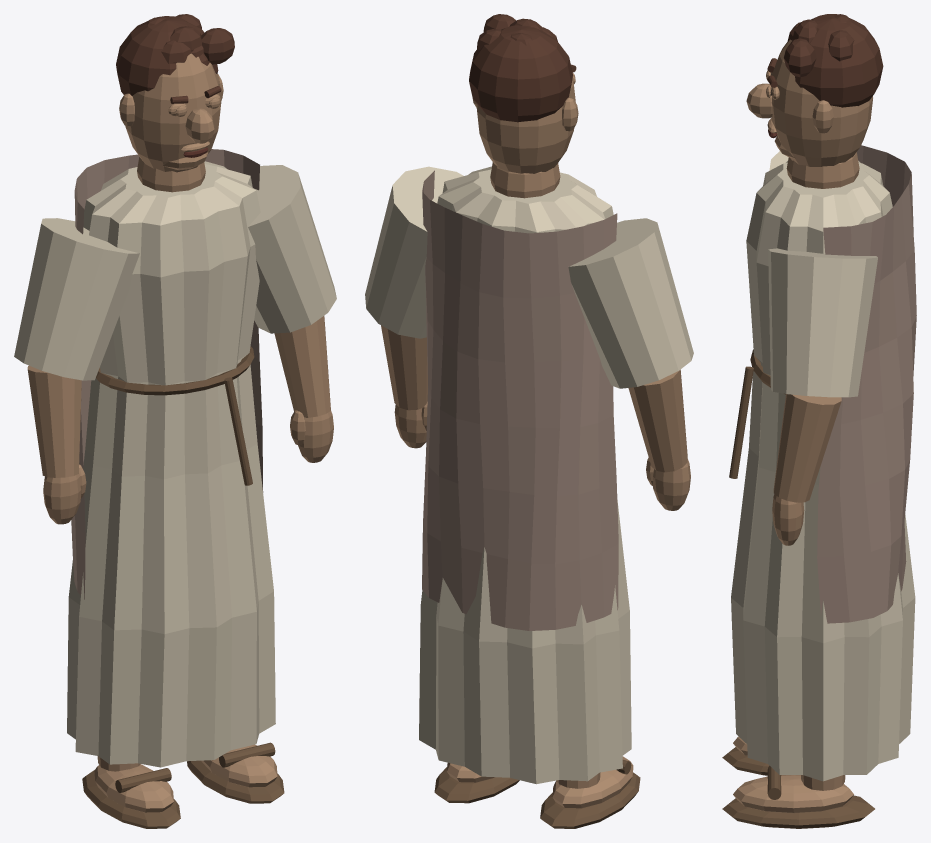
File: listener-linen.glb
The picture shows the model from 3 angles, left to right: view 1: azimuth 30°, elevation 25°; view 2: azimuth 150°, elevation 25°; view 3: azimuth 270°, elevation 25°; orthographic projection.
Visible parts, largest first — view 1: listener-linen_torso_mesh, listener-linen_arm_left_mesh, listener-linen_head_mesh, listener-linen_arm_right_mesh, listener-linen_forearm_left_mesh, listener-linen_forearm_right_mesh, listener-linen_foot_left_mesh, listener-linen_foot_right_mesh; view 2: listener-linen_torso_mesh, listener-linen_arm_left_mesh, listener-linen_head_mesh, listener-linen_arm_right_mesh, listener-linen_forearm_left_mesh, listener-linen_forearm_right_mesh, listener-linen_foot_left_mesh, listener-linen_foot_right_mesh; view 3: listener-linen_torso_mesh, listener-linen_head_mesh, listener-linen_arm_right_mesh, listener-linen_forearm_right_mesh, listener-linen_foot_right_mesh, listener-linen_foot_left_mesh, listener-linen_leg_right_mesh.
Boxes of the visible parts, x1,y1,x2,y2 form: listener-linen_torso_mesh: (67, 149, 275, 767); listener-linen_arm_left_mesh: (14, 218, 139, 380); listener-linen_head_mesh: (116, 14, 234, 172); listener-linen_arm_right_mesh: (248, 165, 336, 333); listener-linen_forearm_left_mesh: (27, 365, 86, 524); listener-linen_forearm_right_mesh: (274, 316, 333, 462); listener-linen_foot_left_mesh: (82, 764, 180, 828); listener-linen_foot_right_mesh: (187, 742, 284, 803); listener-linen_torso_mesh: (419, 162, 631, 784); listener-linen_arm_left_mesh: (568, 218, 693, 388); listener-linen_head_mesh: (469, 14, 578, 173); listener-linen_arm_right_mesh: (365, 166, 463, 338); listener-linen_forearm_left_mesh: (628, 369, 690, 510); listener-linen_forearm_right_mesh: (381, 325, 427, 448); listener-linen_foot_left_mesh: (540, 756, 640, 828); listener-linen_foot_right_mesh: (434, 762, 519, 803); listener-linen_torso_mesh: (729, 145, 916, 781); listener-linen_head_mesh: (746, 14, 883, 166); listener-linen_arm_right_mesh: (768, 248, 877, 397); listener-linen_forearm_right_mesh: (772, 394, 841, 545); listener-linen_foot_right_mesh: (722, 765, 874, 828); listener-linen_foot_left_mesh: (722, 736, 769, 775); listener-linen_leg_right_mesh: (801, 775, 845, 790).
Bounding box in the file's own units: 0.7497 × 1.76 × 0.4009.
